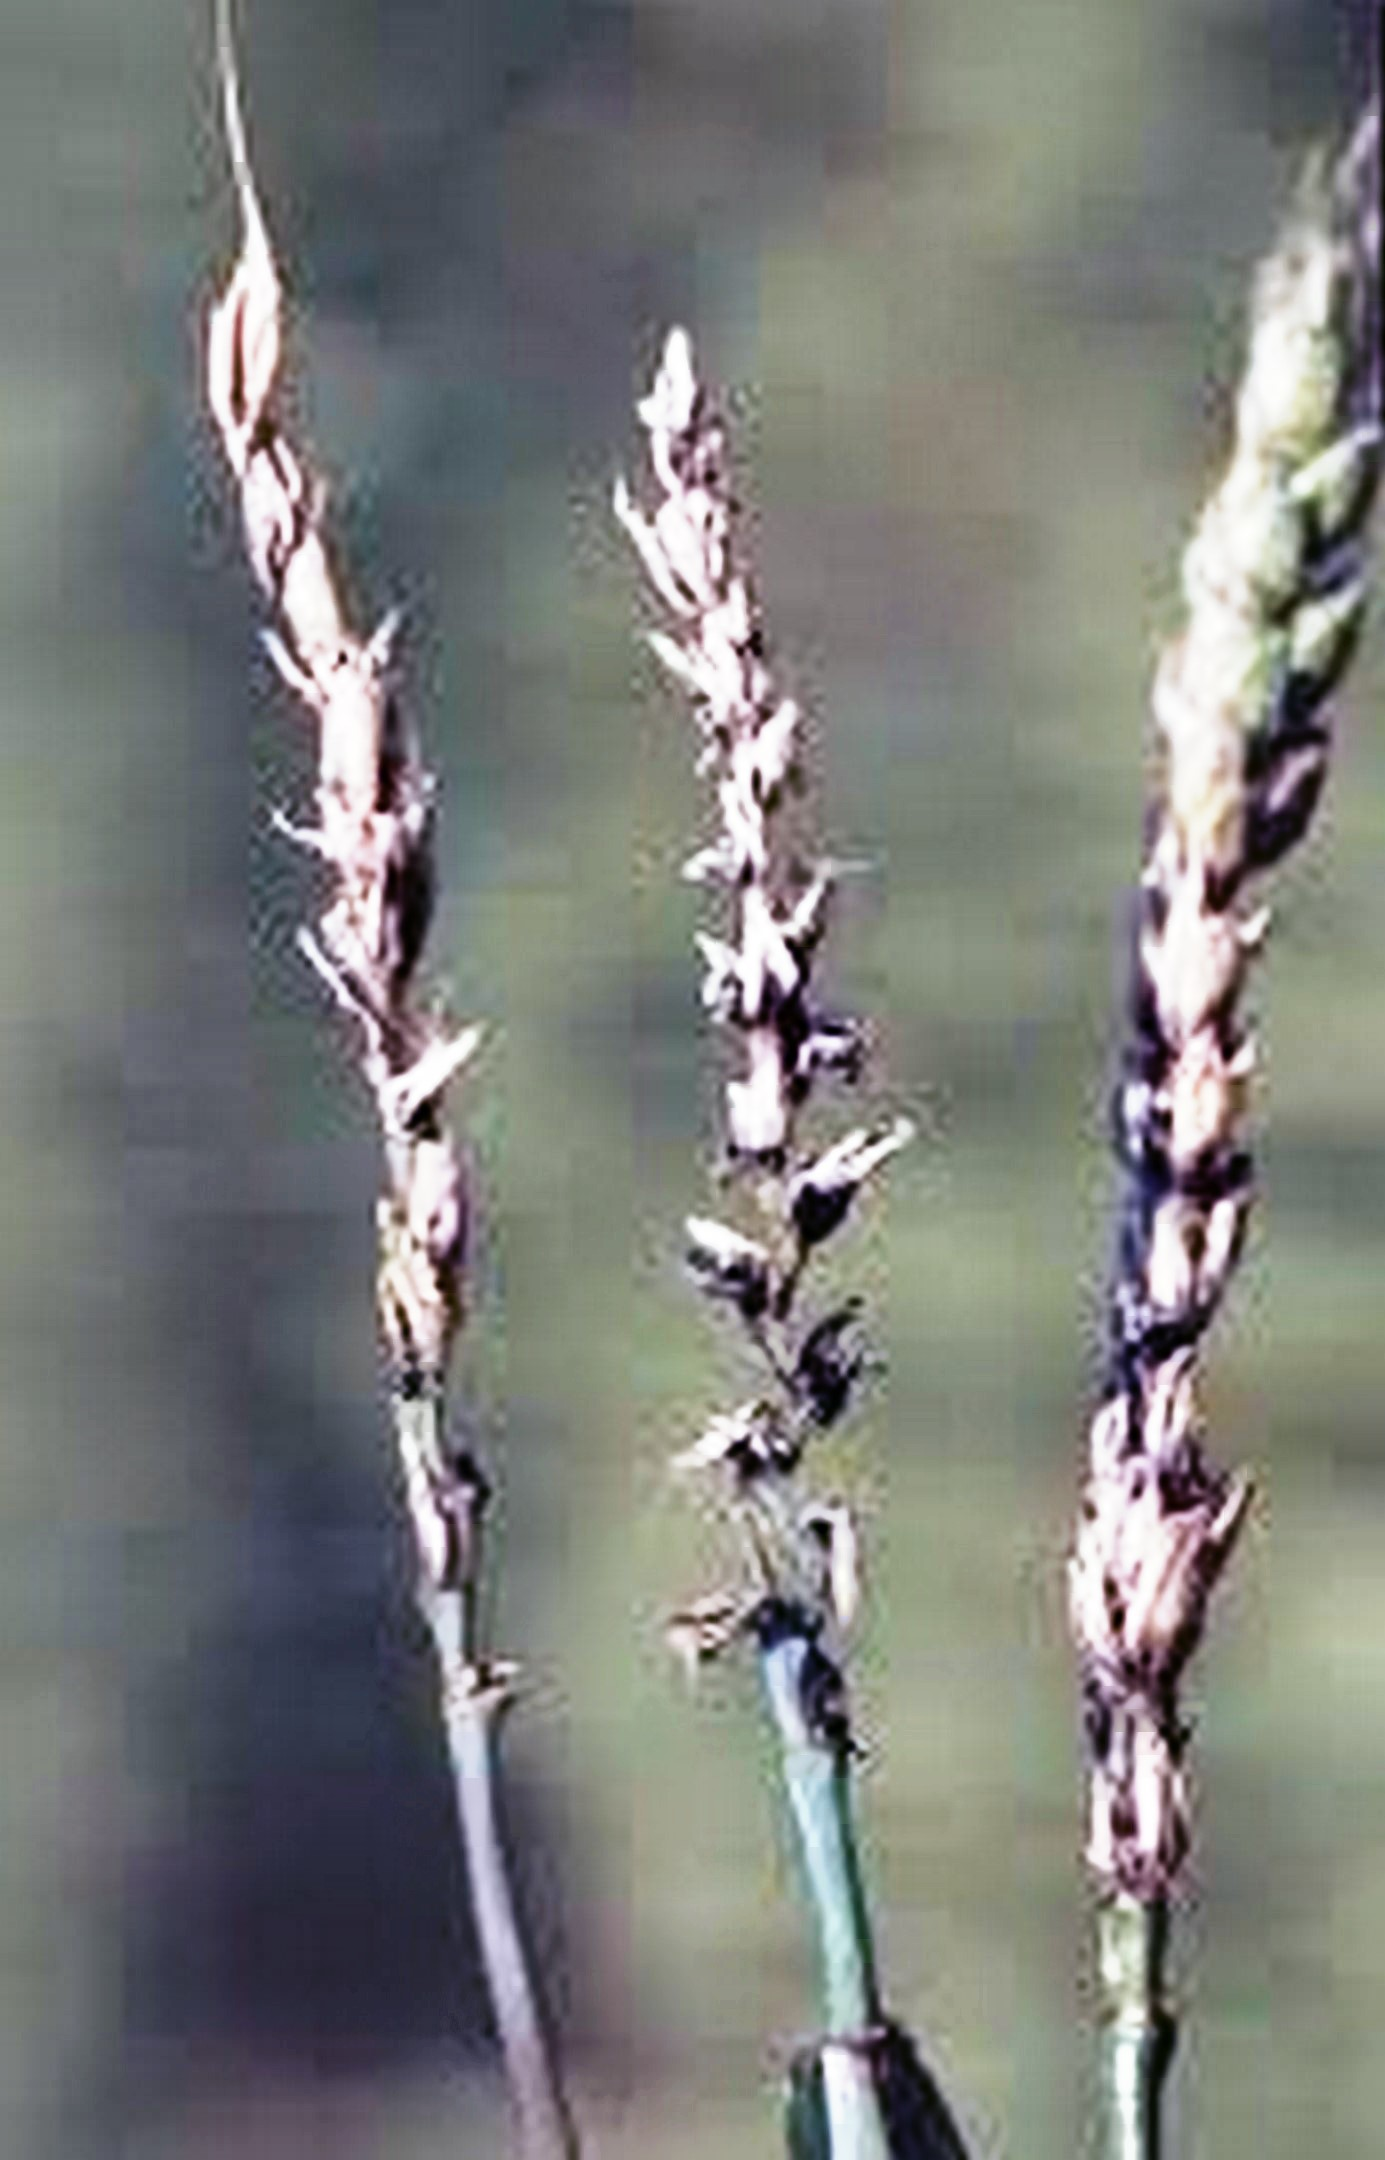Wheat Loose Smut: (521, 657, 1319, 1899)
